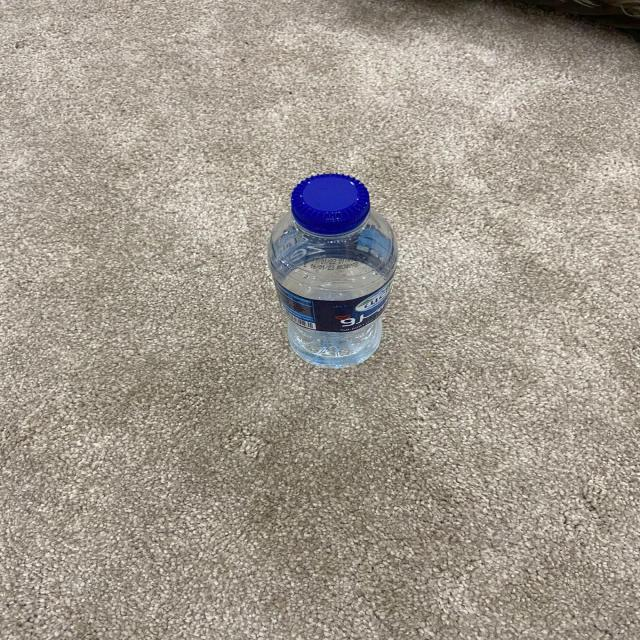bottle: (263, 171, 402, 367)
